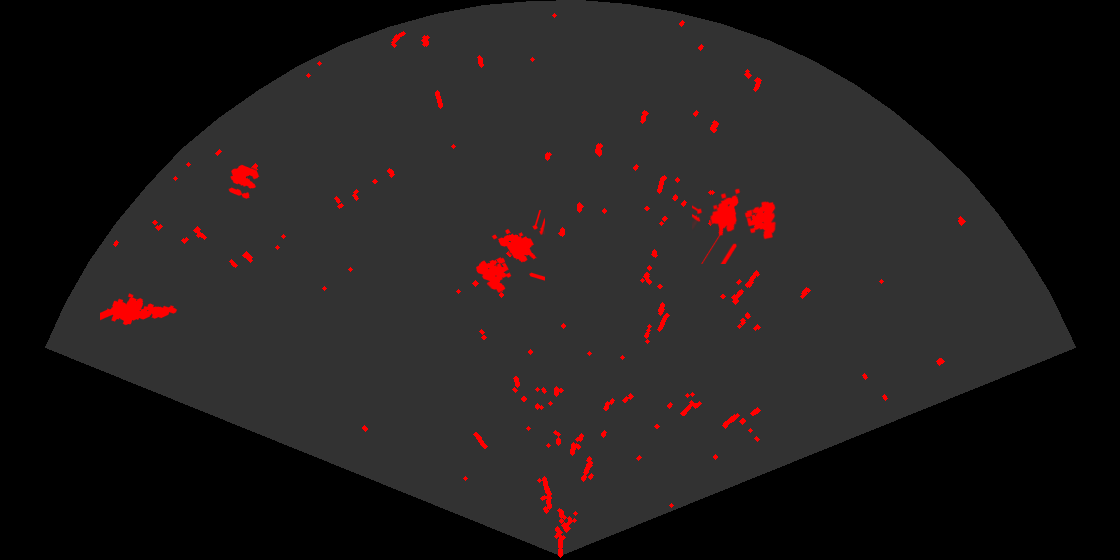ball: (227, 163, 261, 200)
cage: (692, 187, 778, 264), (474, 210, 545, 294)
frogman: (100, 292, 178, 327)
